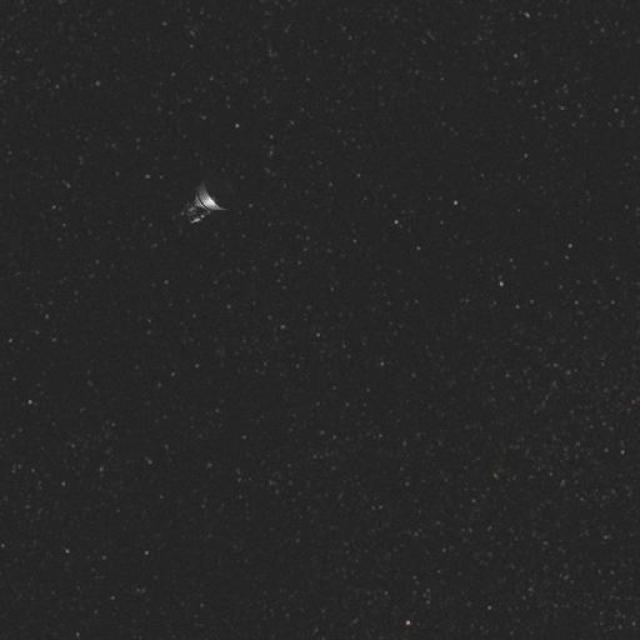debris: (174, 167, 244, 235)
